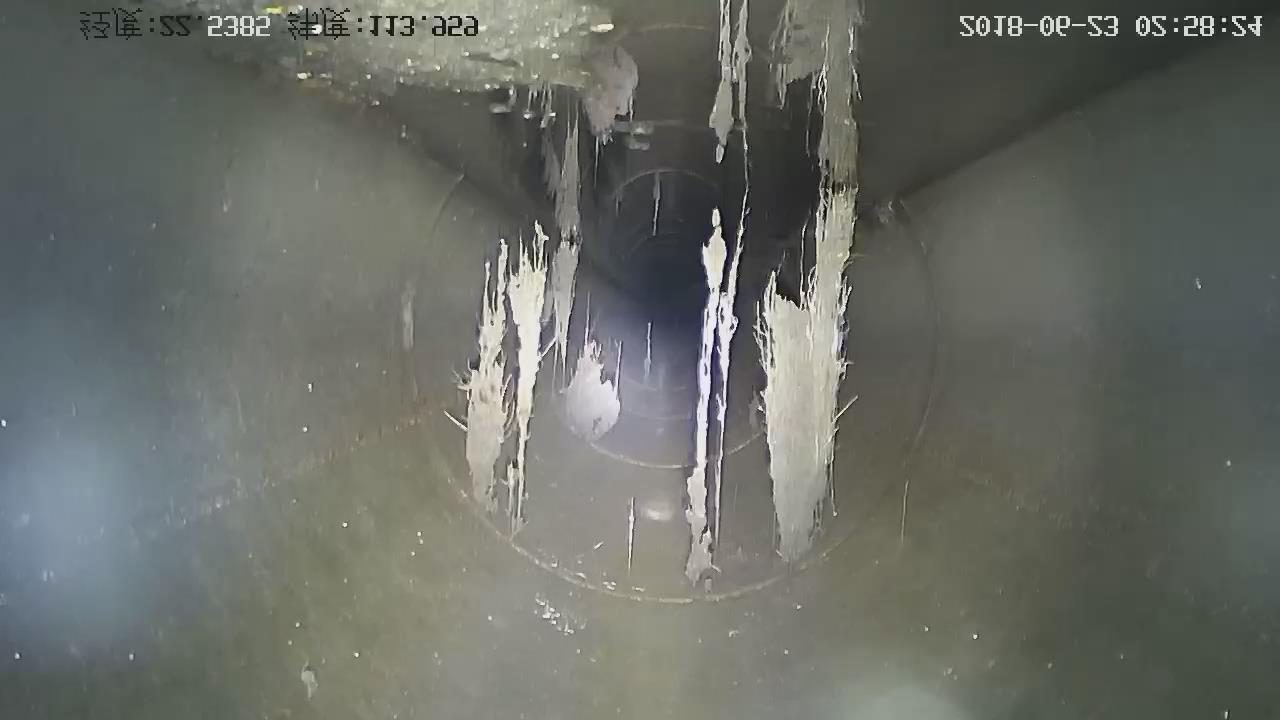CJ: (79, 1, 614, 94)
SG: (465, 233, 620, 533), (754, 191, 853, 561), (686, 214, 740, 581)
